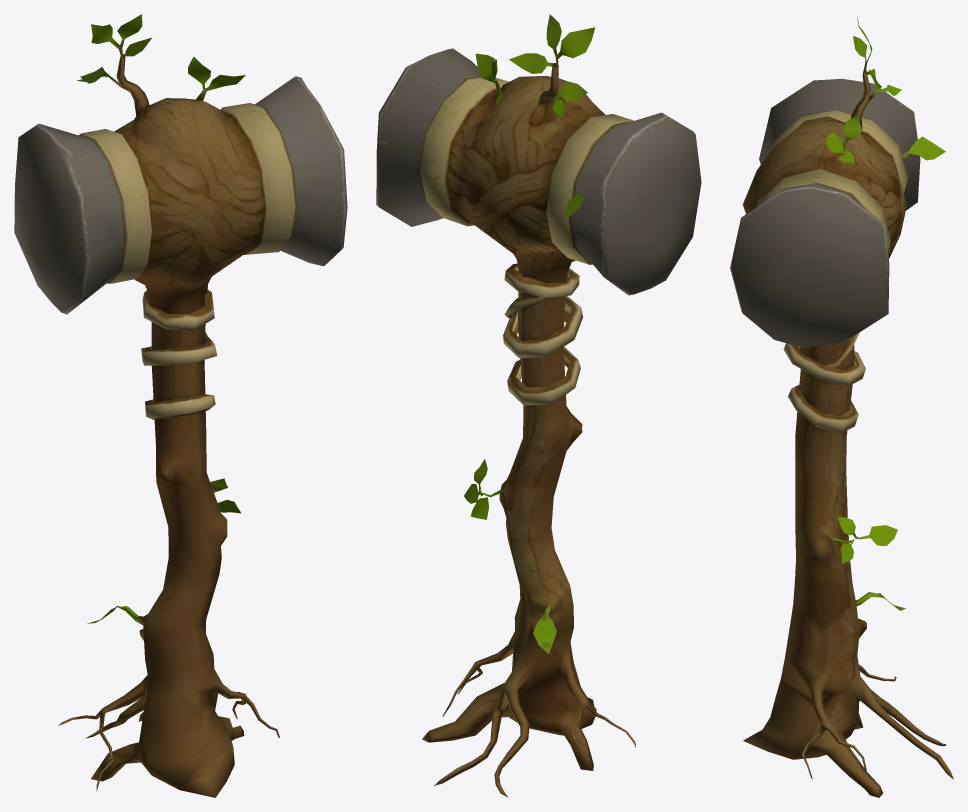
Rendered from hammer_epic_wildwood_living_forest.glb.
The picture shows the model from 3 angles, left to right: view 1: azimuth 30°, elevation 25°; view 2: azimuth 150°, elevation 25°; view 3: azimuth 270°, elevation 25°; orthographic projection. The views are drawn at different scales.
Visible parts, largest first — view 1: tripo_node_5d9e7145-cd32-4319-b6f5-db28941e003f; view 2: tripo_node_5d9e7145-cd32-4319-b6f5-db28941e003f; view 3: tripo_node_5d9e7145-cd32-4319-b6f5-db28941e003f.
Boxes of the visible parts, left/top/right/bottom form: tripo_node_5d9e7145-cd32-4319-b6f5-db28941e003f: left=14, top=14, right=347, bottom=797; tripo_node_5d9e7145-cd32-4319-b6f5-db28941e003f: left=376, top=14, right=701, bottom=797; tripo_node_5d9e7145-cd32-4319-b6f5-db28941e003f: left=730, top=17, right=953, bottom=797.
Size of the model in its own units: 0.5522 by 1.45 by 0.412.
Materials: 1 (1 with a texture image).
